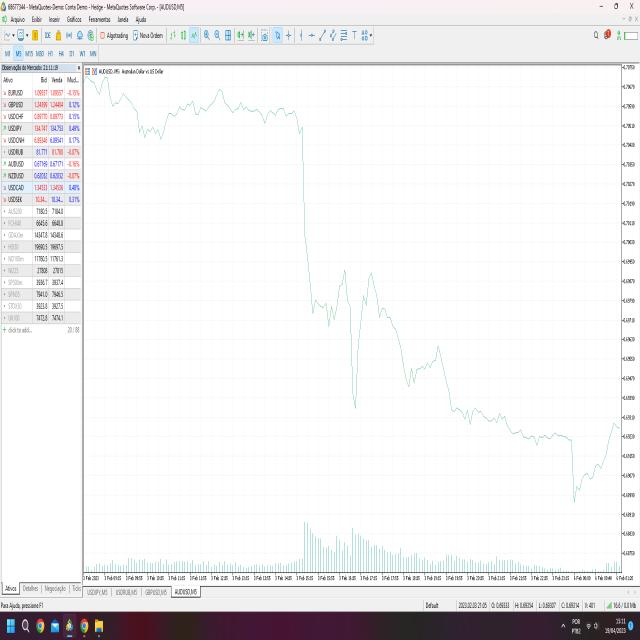bandeira_baixa: (289, 102, 350, 327), (384, 267, 436, 392)
